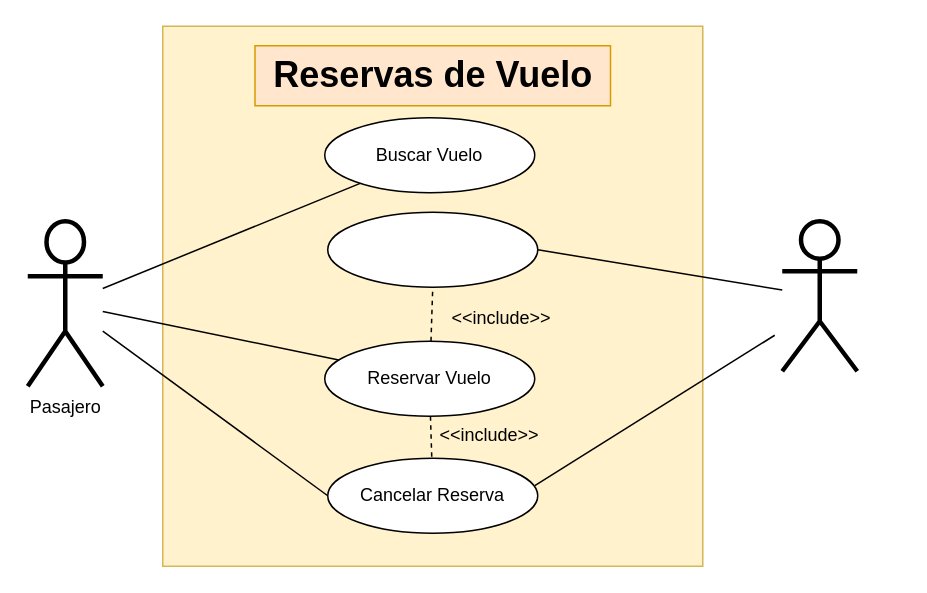
The diagram is 927 pixels wide and 593 high, and some of its shapes have lost their labels. The shapes that lost their labels are listed below. From the top down, each one's box as (x1, y1, x2, y2) in pixels, then its label:
(326, 211, 538, 287): Modificar Vuelo
(779, 218, 859, 373): Agente de Reservas
